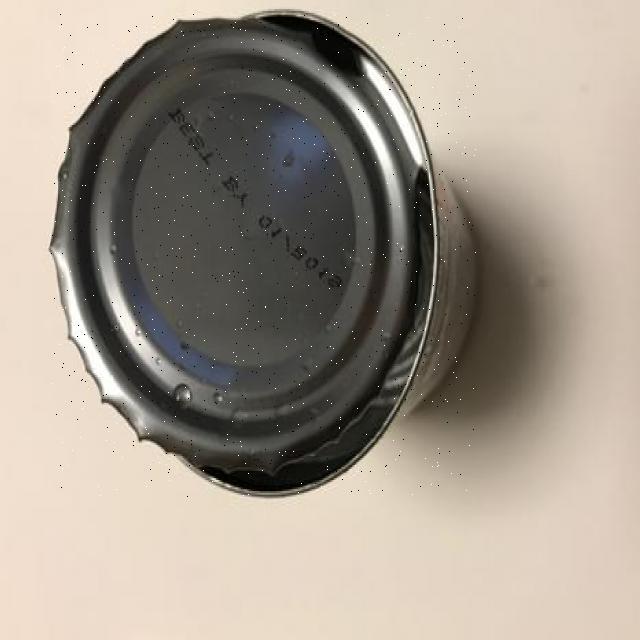metal: (51, 14, 477, 496)
